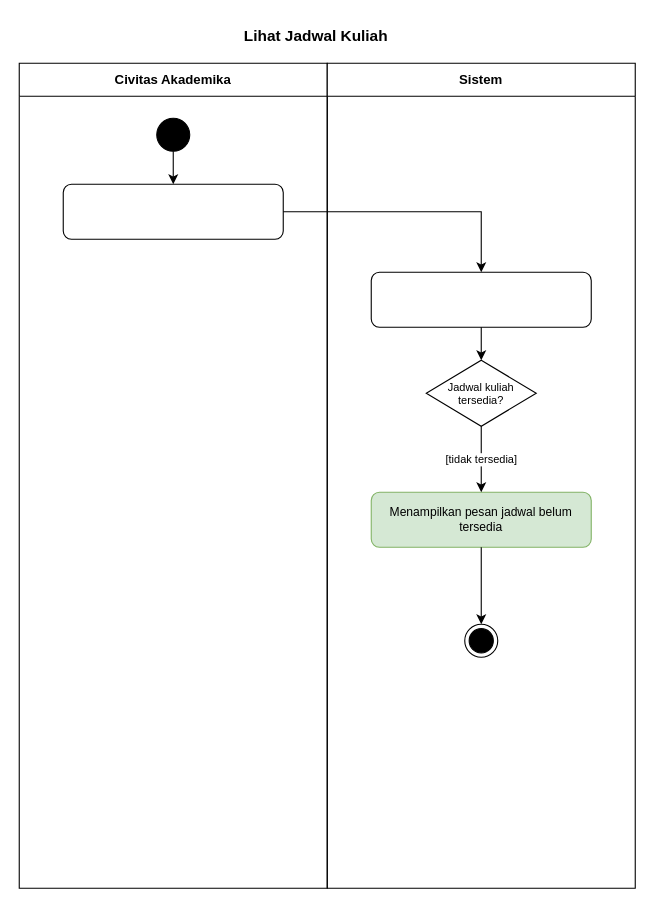
Image size: 655x908. Some labels were removed from this diagram. The centre of each missing label's shape, as x and y in pixels:
Membuka fungsi Lihat Jadwal Kuliah: the point at 172,211
Menampilkan daftar jadwal kuliah: the point at 480,299
